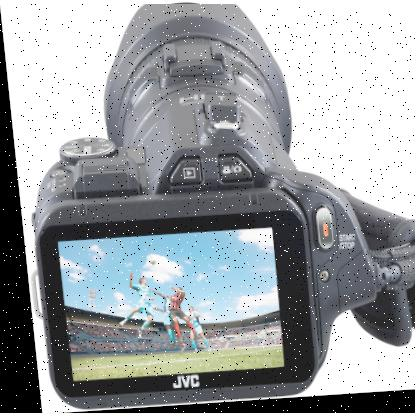Camera: (1, 5, 416, 415)
